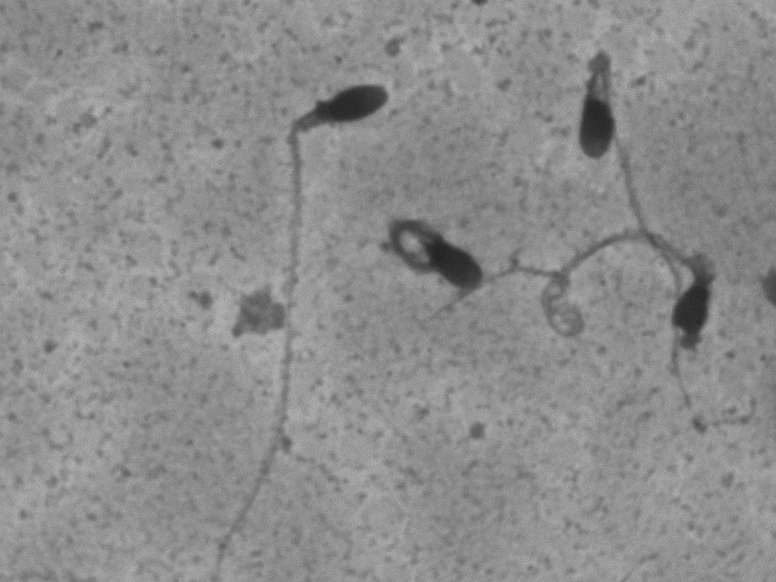Abnormal: (193, 75, 403, 563), (529, 40, 668, 209), (379, 206, 486, 303)
